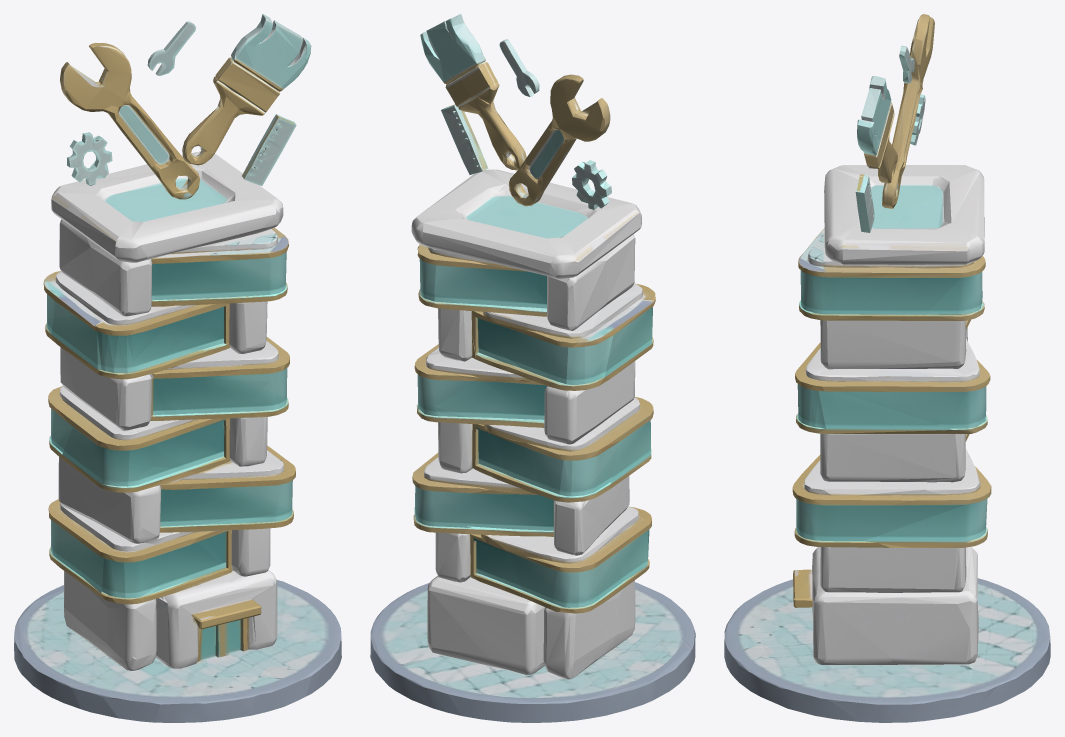
Rendered from tower.glb.
The picture shows the model from 3 angles, left to right: view 1: azimuth 30°, elevation 25°; view 2: azimuth 150°, elevation 25°; view 3: azimuth 270°, elevation 25°; orthographic projection.
Parts seen in each view (by area): view 1: Mesh_0; view 2: Mesh_0; view 3: Mesh_0.
Boxes of the visible parts, x1=… form: Mesh_0: x1=14, y1=14, x2=341, y2=722; Mesh_0: x1=370, y1=14, x2=695, y2=722; Mesh_0: x1=724, y1=14, x2=1050, y2=722.
Bounding box in the file's own units: 0.9084 × 1.9 × 0.9103.
Materials: 1 (1 with a texture image).
